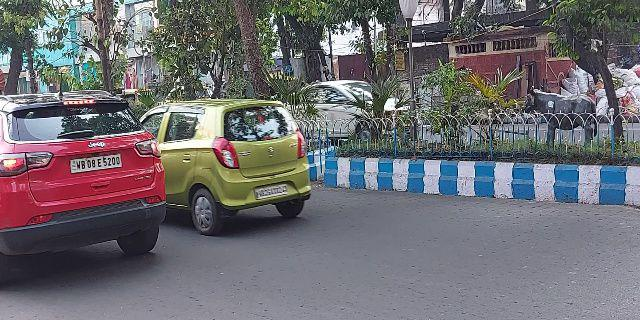Car: (1, 88, 168, 262), (138, 101, 315, 238)
